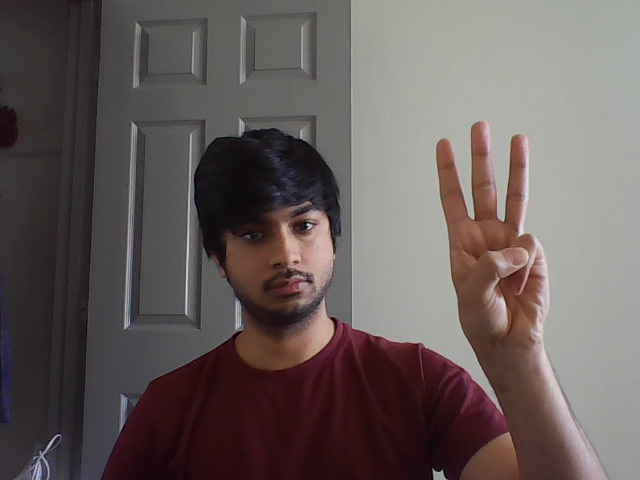three: (427, 114, 541, 241)
